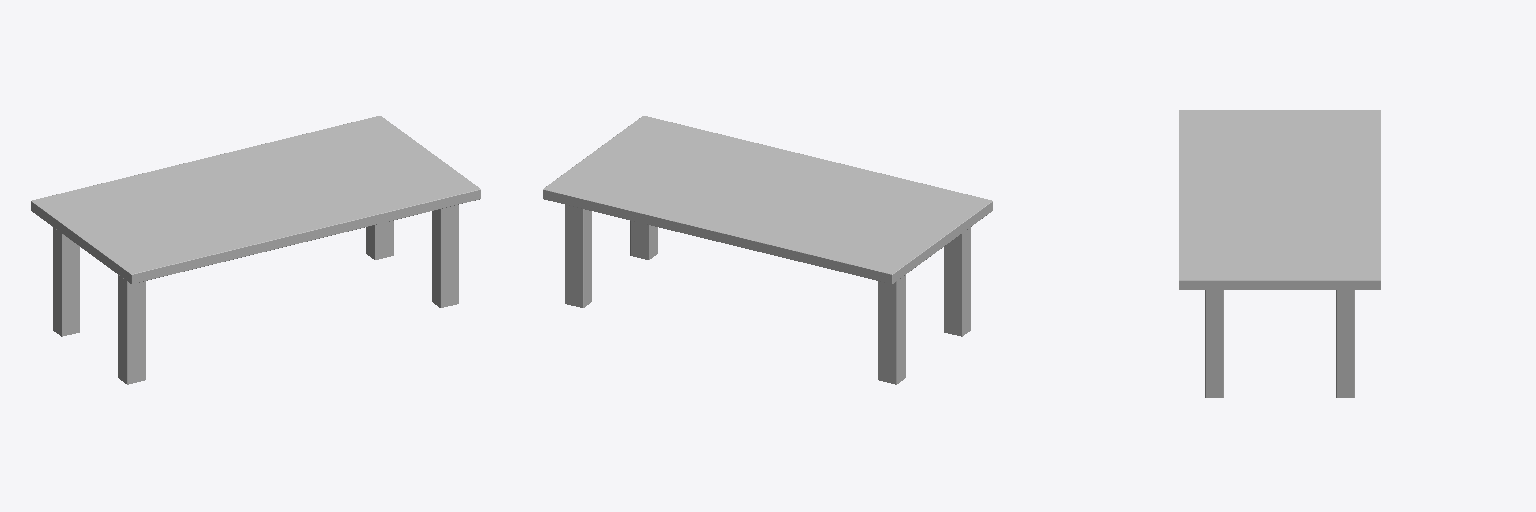
The model's file is table.obj.
The picture shows the model from 3 angles: view 1: azimuth 30°, elevation 25°; view 2: azimuth 150°, elevation 25°; view 3: azimuth 270°, elevation 25°; orthographic projection.
Visible parts, largest first — view 1: table2_Plane.001; view 2: table2_Plane.001; view 3: table2_Plane.001.
Boxes of the visible parts, <box> form: table2_Plane.001: <box>31,116,480,384</box>; table2_Plane.001: <box>543,116,992,384</box>; table2_Plane.001: <box>1179,110,1380,397</box>.
Bounding box in the file's own units: 3 × 1 × 1.5.